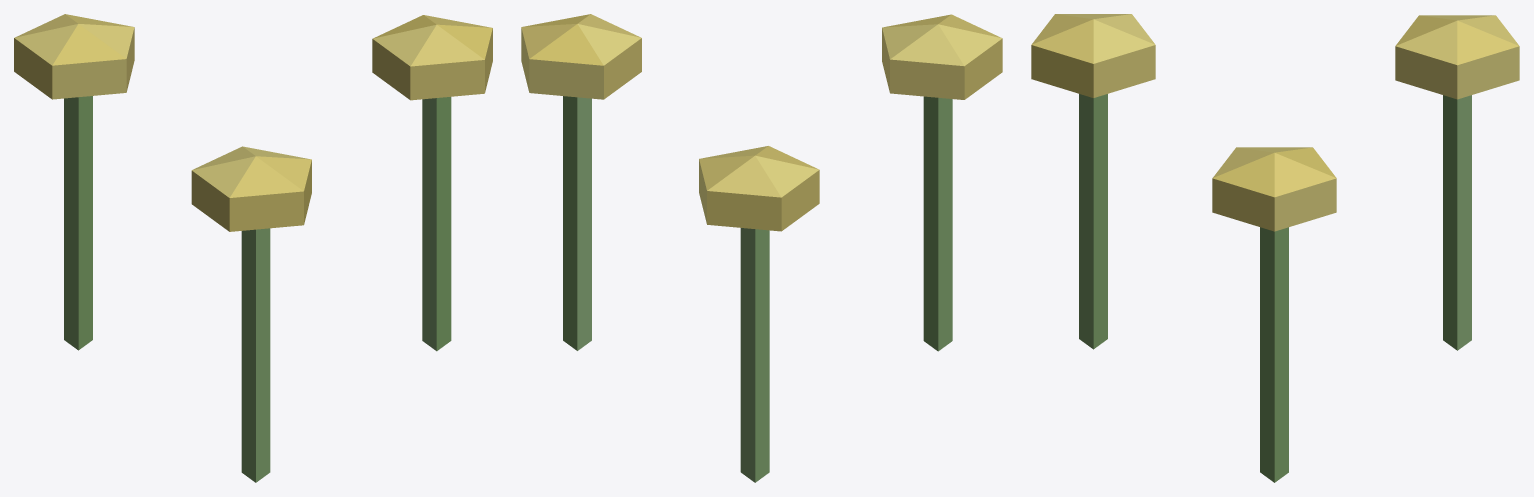
Rendered from flower_y.glb.
3 renders of one model, left to right at view 1: azimuth 30°, elevation 25°; view 2: azimuth 150°, elevation 25°; view 3: azimuth 270°, elevation 25°, orthographic.
Parts seen in each view (by area): view 1: flower_y2; view 2: flower_y2; view 3: flower_y2.
Boxes of the visible parts, bbox=[...] form: flower_y2: bbox=[14, 14, 492, 482]; flower_y2: bbox=[521, 14, 1002, 482]; flower_y2: bbox=[1031, 14, 1519, 482].
Bounding box in the file's own units: 0.5172 × 0.425 × 0.582.
